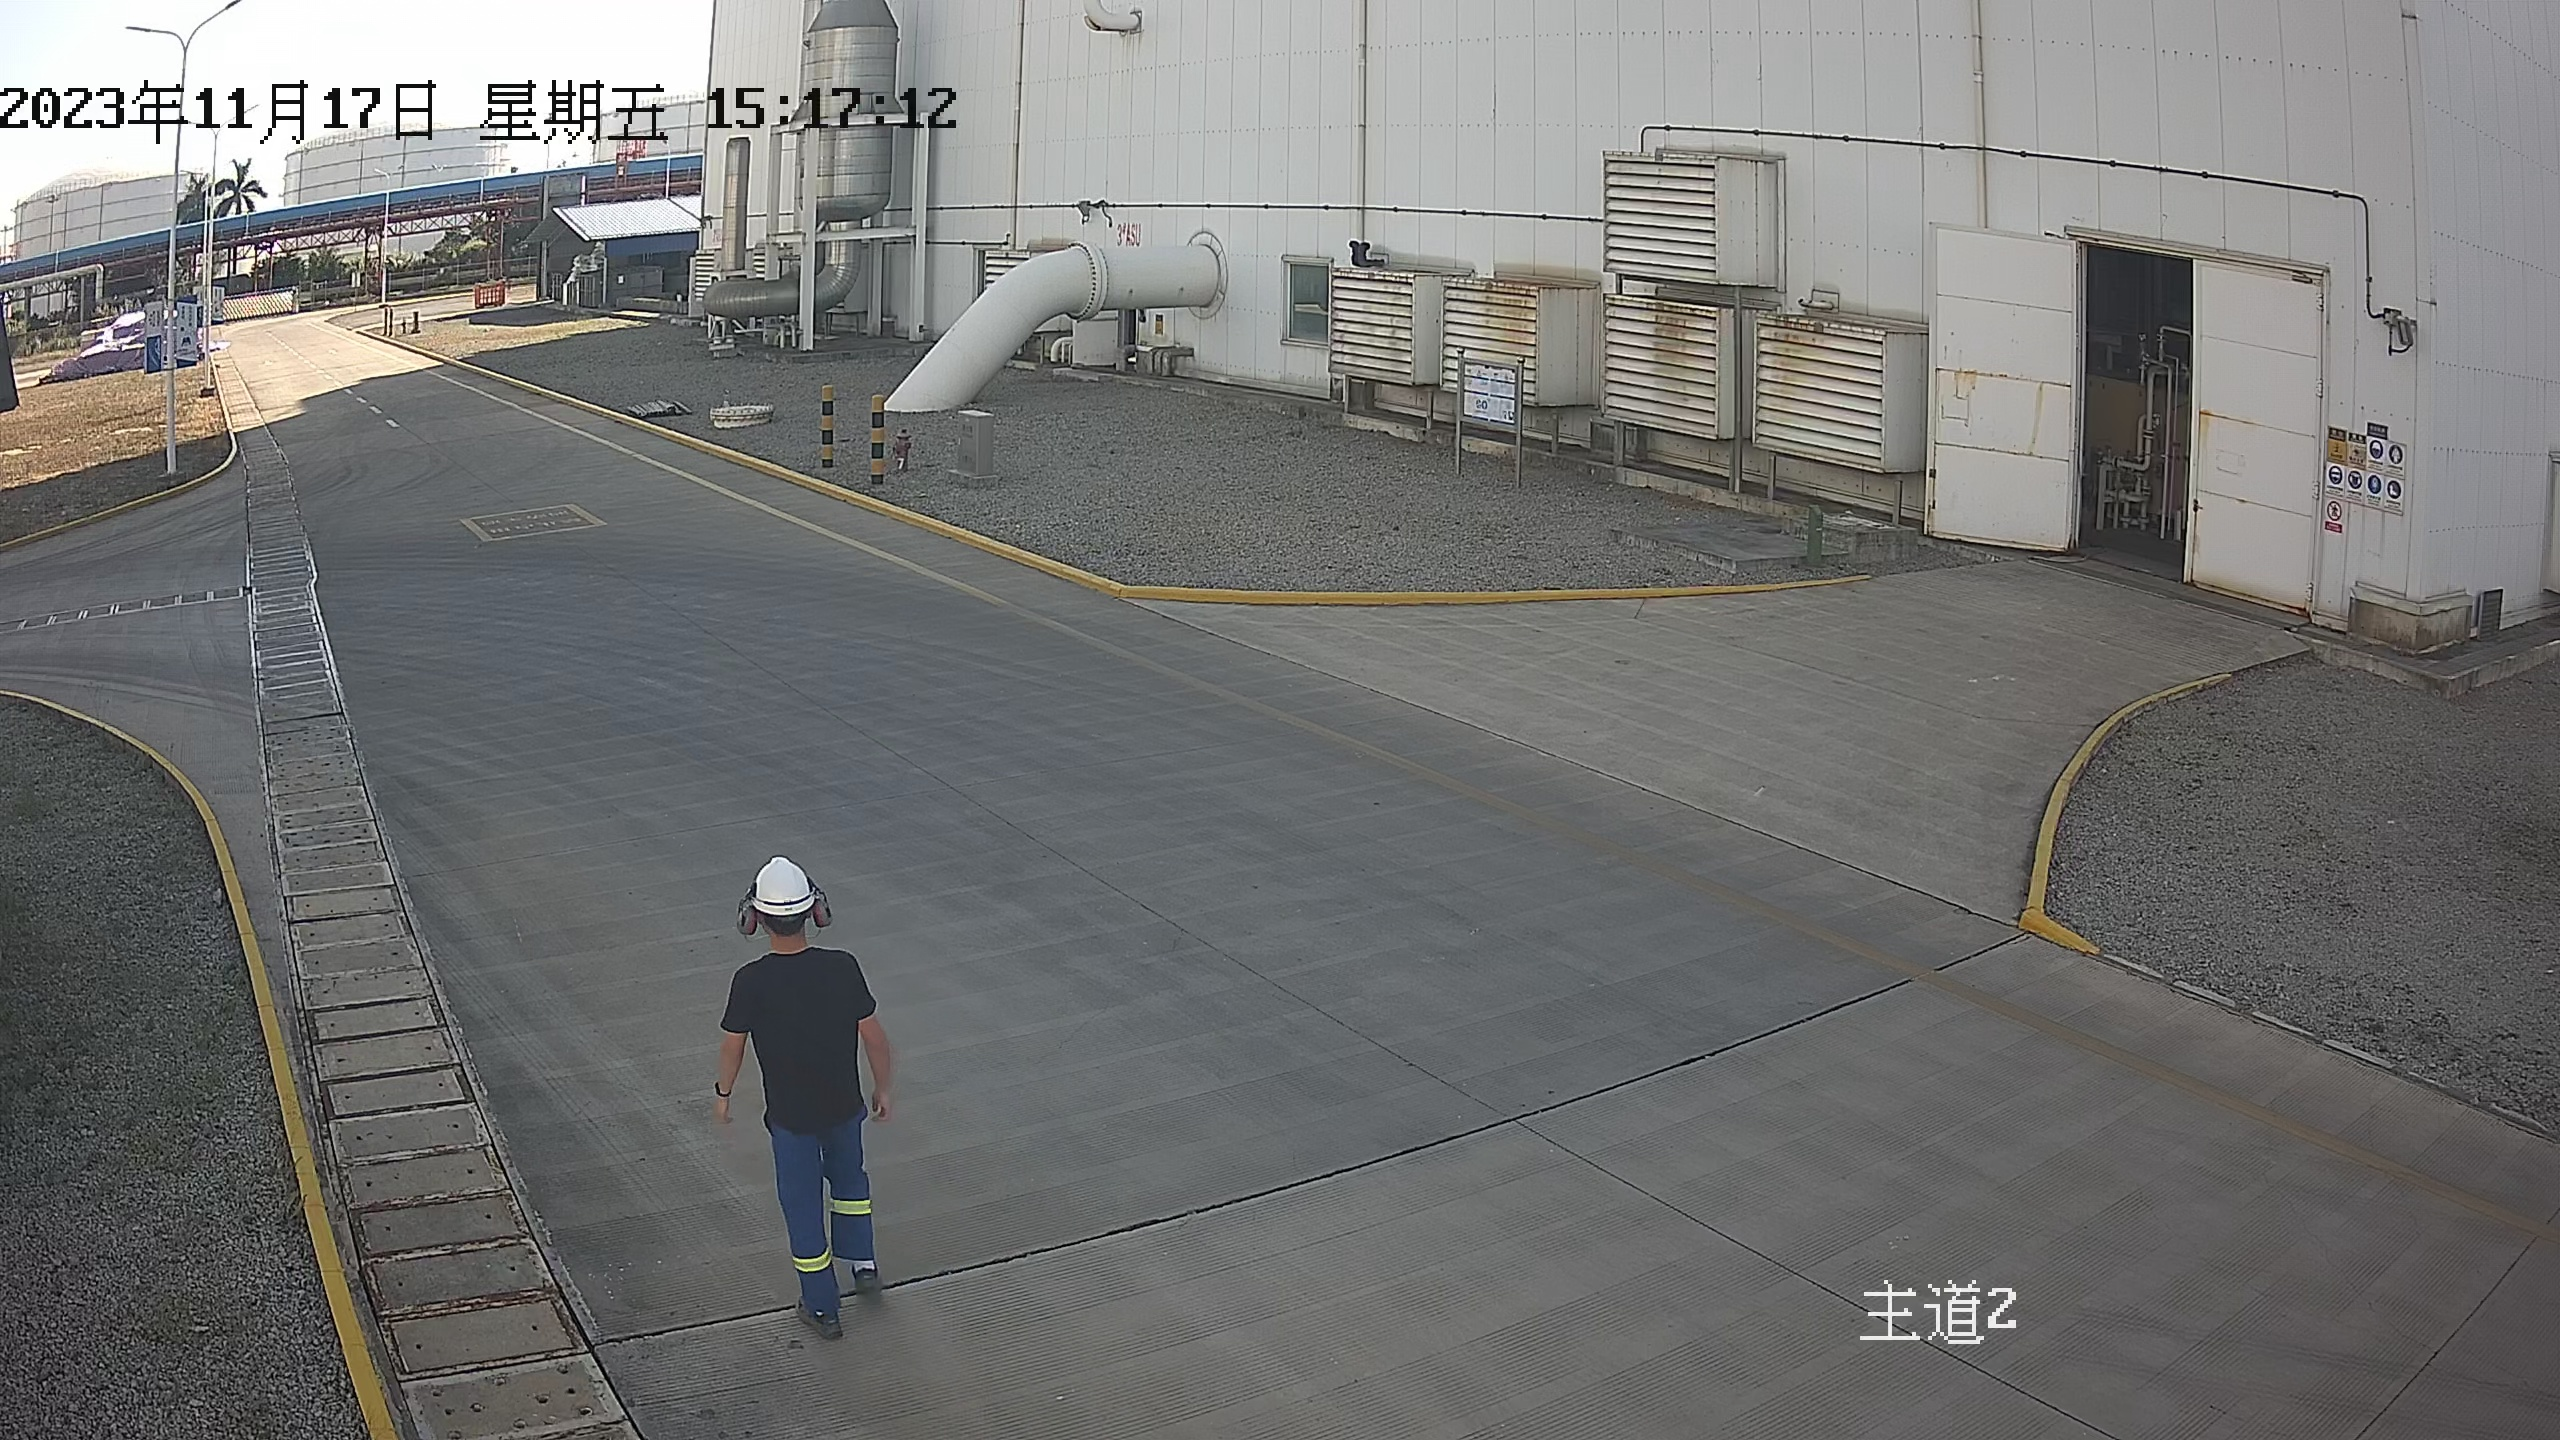Body_without_uniform: (636, 931, 998, 1370)
Head_with_Helmet: (672, 842, 860, 957)
